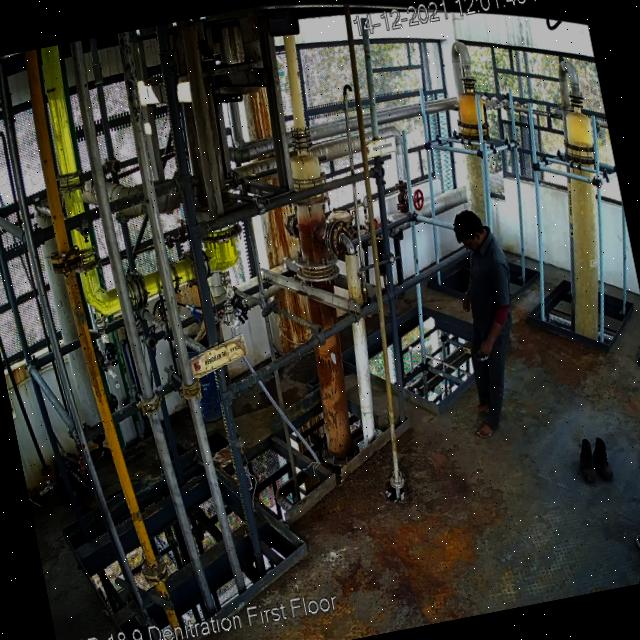boots: (573, 435, 604, 487), (590, 436, 616, 482)
no-boots: (474, 414, 498, 442)
